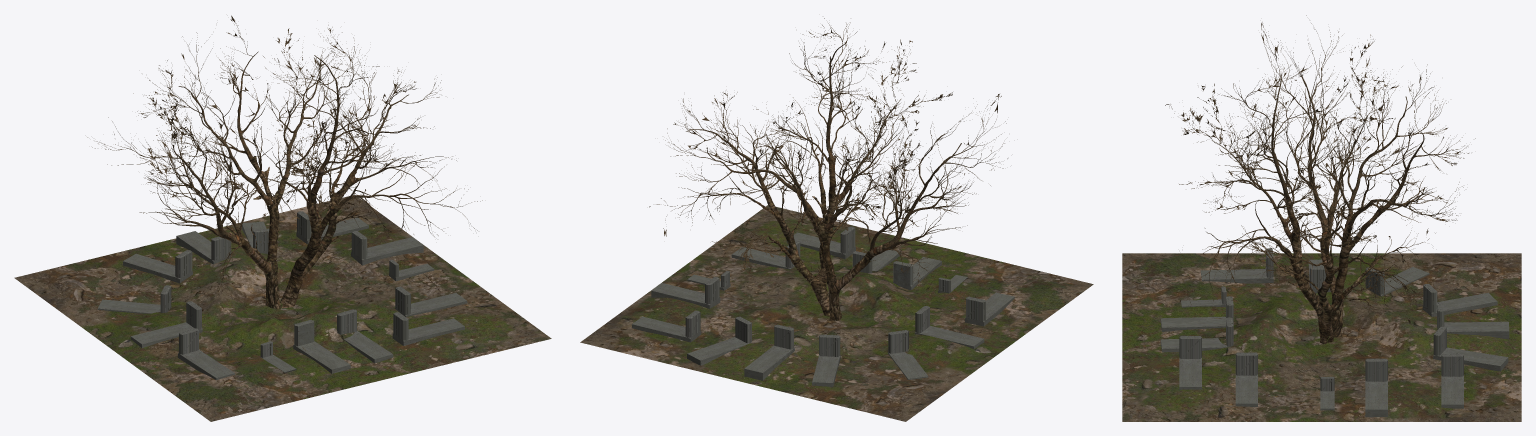
Rendered from graveyard_map.glb.
The picture shows the model from 3 angles, left to right: view 1: azimuth 30°, elevation 25°; view 2: azimuth 150°, elevation 25°; view 3: azimuth 270°, elevation 25°; orthographic projection. The views are drawn at different scales.
Parts seen in each view (by area): view 1: gy_terrain, gy_branches, gy_tombs, gy_trunk; view 2: gy_terrain, gy_branches, gy_tombs, gy_trunk; view 3: gy_terrain, gy_branches, gy_tombs, gy_trunk.
Part boxes in pixels (box(x1,y1,x2,y2)): gy_terrain: box(14, 195, 551, 421); gy_branches: box(87, 15, 482, 311); gy_tombs: box(97, 211, 467, 380); gy_trunk: box(226, 156, 360, 309); gy_terrain: box(580, 205, 1093, 421); gy_branches: box(649, 18, 1007, 290); gy_tombs: box(632, 226, 1014, 386); gy_trunk: box(756, 156, 882, 320); gy_terrain: box(1122, 253, 1521, 421); gy_branches: box(1165, 15, 1475, 331); gy_tombs: box(1160, 248, 1509, 417); gy_trunk: box(1277, 198, 1386, 343).
Size of the model in its own units: 24.62 by 19.55 by 23.27.
Materials: 4 (4 with a texture image).
